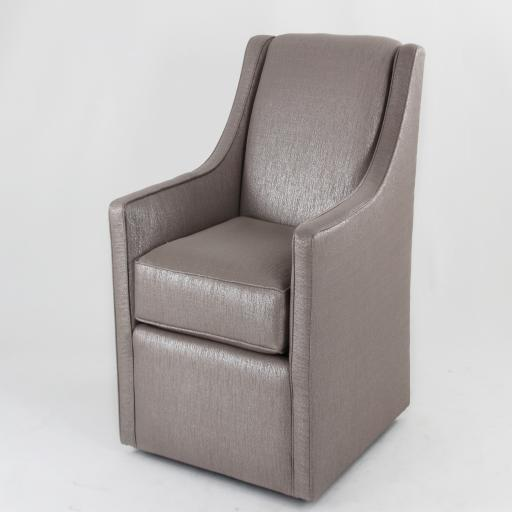chair: (108, 33, 426, 502)
